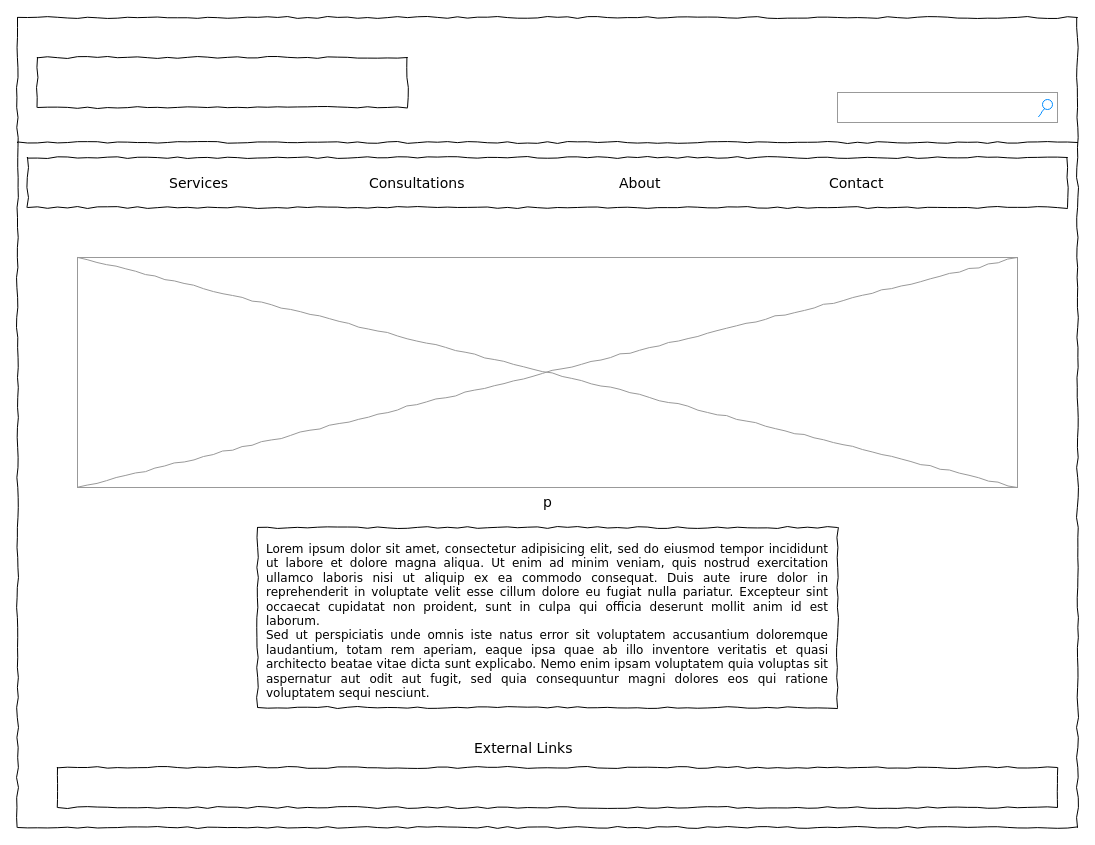
The diagram is 1095 pixels wide and 845 high, and some of its shapes have lost their labels. The centre of each missing label's shape, as x and y in pixels:
Robinson and Associates: point (222, 82)
Search: point (947, 107)
